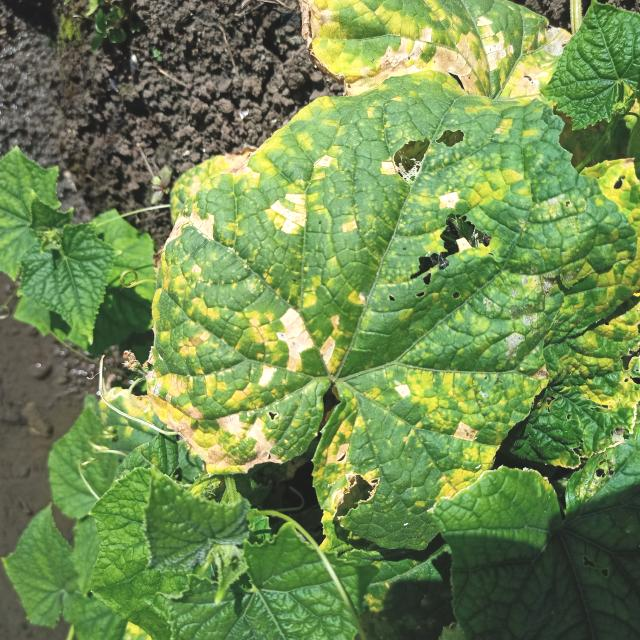disease_cucumber: (148, 92, 640, 501), (282, 0, 564, 143)
